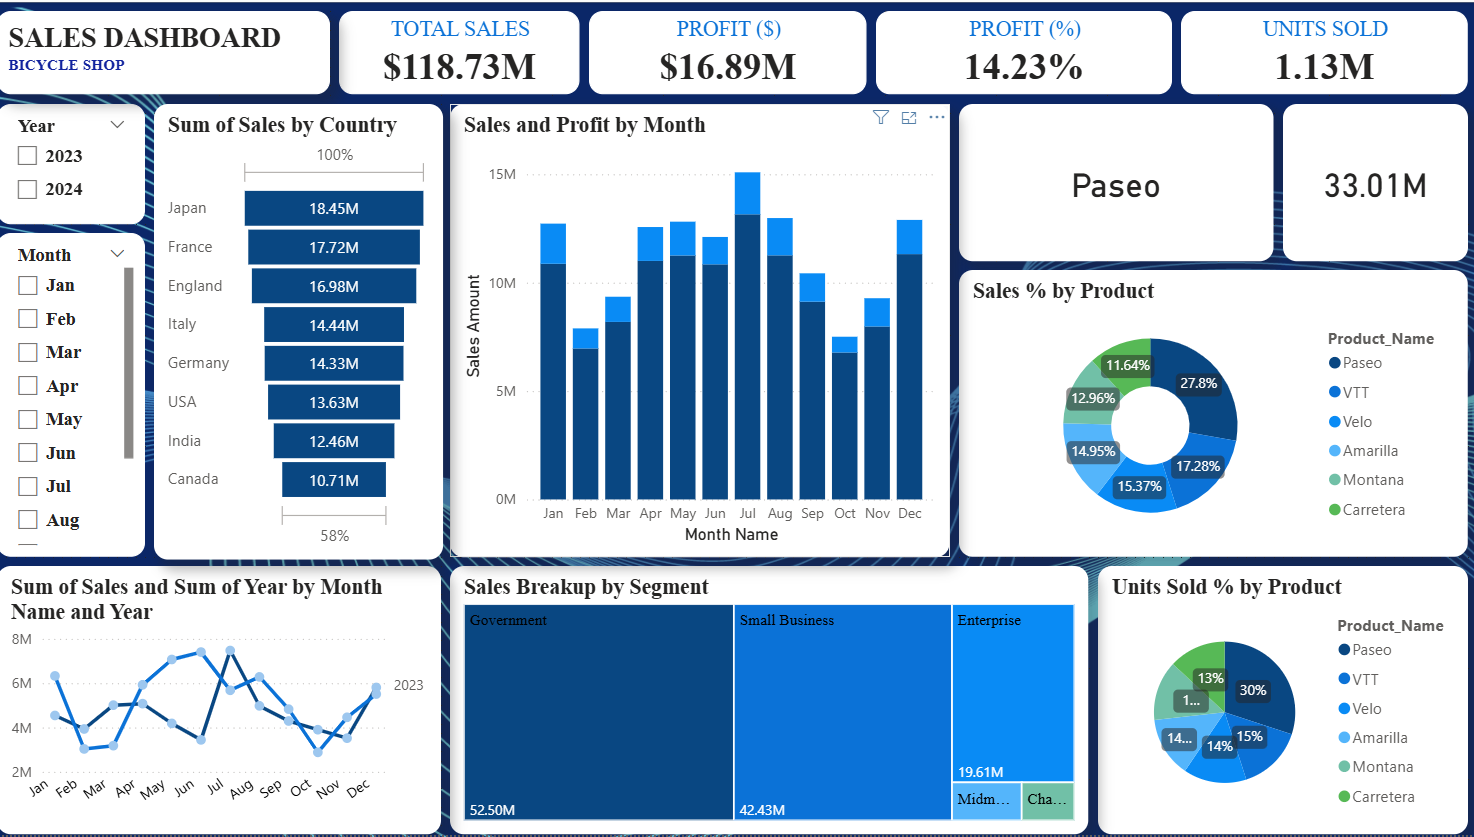

This screenshot's page, from the dashboard's own definition file:
{"tool":"powerbi","page":{"name":"SALES ANALYSIS","canvas":[1280,720],"ordinal":0},"visuals":[{"type":"card","title":"TOTAL SALES","fields":{"Values":["Sum(Sales Data.Sales)"]},"box":[296,8,208,72],"z":0},{"type":"card","title":"PROFIT ($)","fields":{"Values":["Sum(Sales Data.Profit)"]},"box":[512,8,240,72],"z":1000},{"type":"card","title":"PROFIT (%)","fields":{"Values":["Sales Data.PROFIT (%)"]},"box":[760,8,256,72],"z":2000},{"type":"card","title":"UNITS SOLD","fields":{"Values":["Sum(Sales Data.Units Sold)"]},"box":[1024,8,248,72],"z":3000},{"type":"card","title":"TOP SELLING PRODUCT","fields":{"Values":["Min(Sales Data.Product_Name)"]},"box":[832,88,272,136],"z":4000},{"type":"card","title":"TOP SELLING PRODUCT","fields":{"Values":["Sum(Sales Data.Sales)"]},"box":[1112,88,160,136],"z":5000},{"type":"donutChart","title":"Sales % by Product","fields":{"Y":["Sum(Sales Data.Sales)"],"Category":["Sales Data.Product_Name"]},"box":[832,232,440,248],"z":6000},{"type":"pieChart","title":"Units Sold % by Product","fields":{"Y":["Sum(Sales Data.Units Sold)"],"Category":["Sales Data.Product_Name"]},"box":[952,488,320,232],"z":7000},{"type":"treemap","title":" Sales Breakup by Segment","fields":{"Group":["Sales Data.Segment"],"Values":["Sum(Sales Data.Sales)"]},"box":[392,488,552,232],"z":8000},{"type":"lineChart","fields":{"Y":["Sum(Sales Data.Sales)"],"Category":["Sales Data.Month Name"],"Series":["Sales Data.Year"]},"box":[0,488,384,232],"z":9000},{"type":"slicer","fields":{"Values":["Sales Data.Year"]},"box":[0,88,128,104],"z":10000},{"type":"slicer","fields":{"Values":["Sales Data.Month Name"]},"box":[0,200,128,280],"z":11000},{"type":"textbox","box":[0,8,288,72],"z":12000},{"type":"columnChart","title":"Sales and Profit by Month ","fields":{"Y":["Sum(Sales Data.Sales)","Sum(Sales Data.Month)","Sum(Sales Data.Profit)"],"Category":["Sales Data.Month Name"]},"box":[392,88,432,392],"z":14000},{"type":"funnel","fields":{"Category":["Sales Data.Country"],"Y":["Sum(Sales Data.Sales)"]},"box":[136,88,250,394],"z":15000}]}

Visuals, with their boxes in screenshot pixels (x1, y1, x2, y2), scaled from the page's 1280x720 canvas onto the 1474x837 screenshot:
"TOTAL SALES" card: 341/9/580/93
"PROFIT ($)" card: 590/9/866/93
"PROFIT (%)" card: 875/9/1170/93
"UNITS SOLD" card: 1179/9/1465/93
"TOP SELLING PRODUCT" card: 958/102/1271/260
"TOP SELLING PRODUCT" card: 1281/102/1465/260
"Sales % by Product" donutChart: 958/270/1465/558
"Units Sold % by Product" pieChart: 1096/567/1465/836
" Sales Breakup by Segment" treemap: 451/567/1087/836
lineChart - Sum(Sales Data.Sales) x Sales Data.Month Name: 0/567/442/836
slicer - Sales Data.Year: 0/102/147/223
slicer - Sales Data.Month Name: 0/233/147/558
textbox: 0/9/332/93
"Sales and Profit by Month " columnChart: 451/102/949/558
funnel - Sales Data.Country x Sum(Sales Data.Sales): 157/102/445/560
